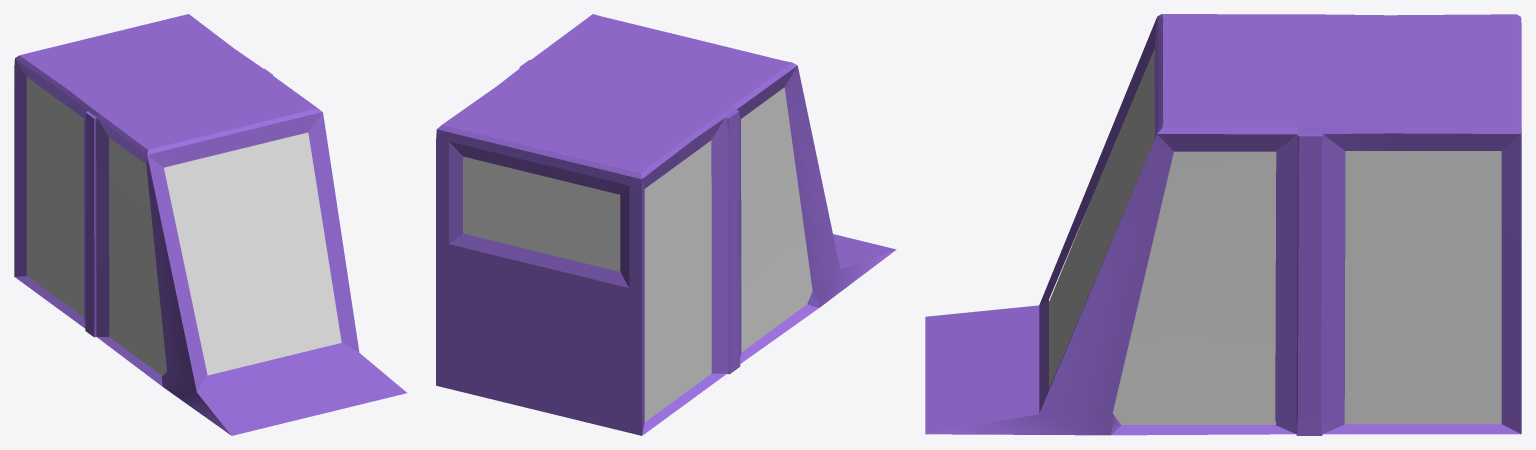
File: BOXY-TOP-ZNHaGzu-.glb
3 views of the same model, side by side, from view 1: azimuth 30°, elevation 25°; view 2: azimuth 150°, elevation 25°; view 3: azimuth 270°, elevation 25° (orthographic). The views are drawn at different scales.
Size of the model in its own units: 1.53 by 1.81 by 3.21.
1 material, 1 textured.
